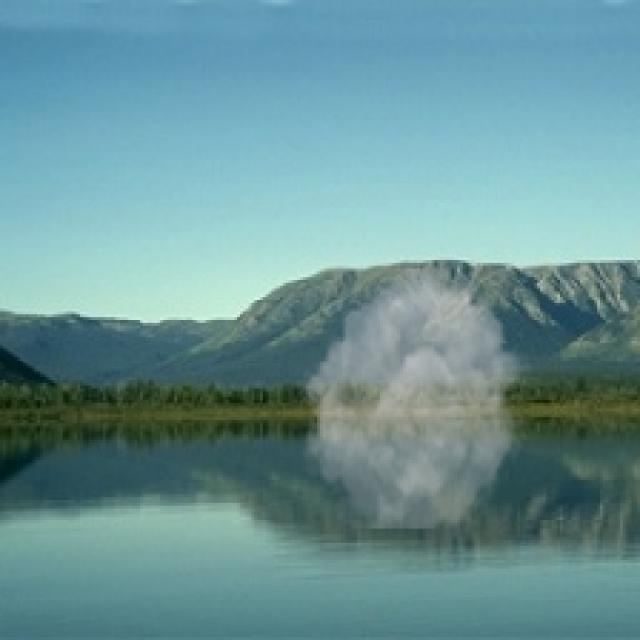smoke: (294, 268, 532, 528)
